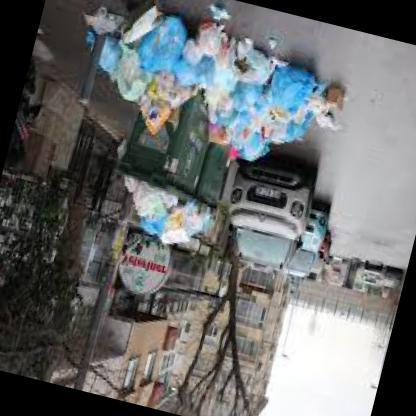Garbage: (222, 40, 353, 162), (242, 53, 340, 176), (178, 27, 281, 133), (101, 7, 210, 107), (117, 185, 216, 249)
